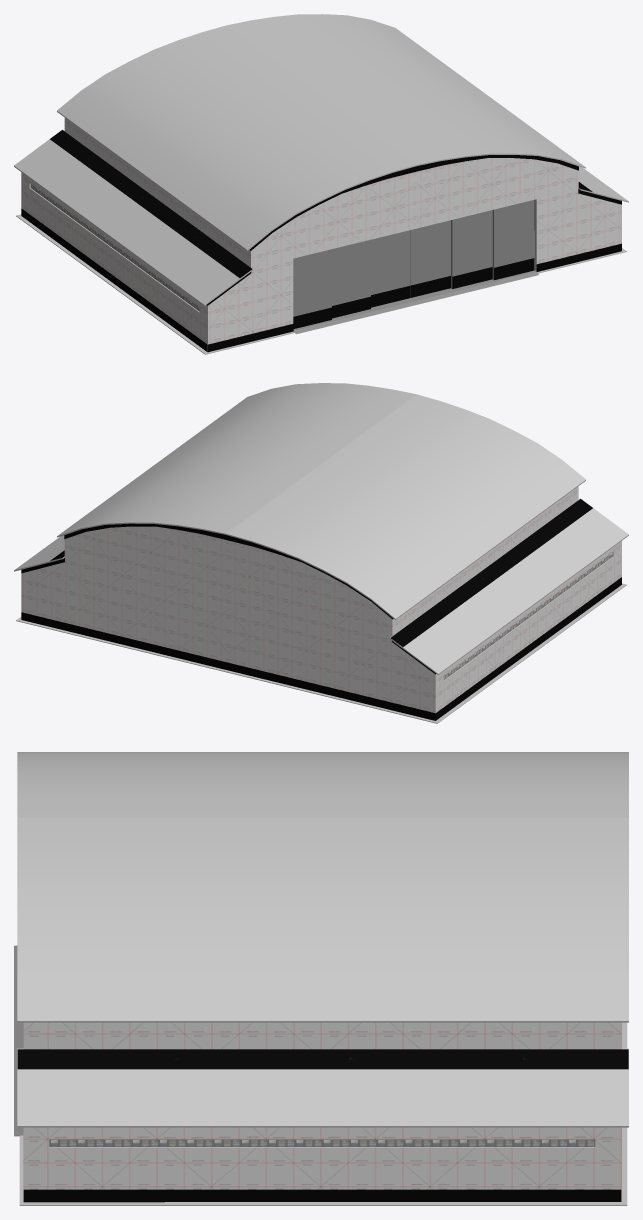
Rendered from hangar_03_a.FBX.
3 renders of one model, top to bottom at view 1: azimuth 30°, elevation 25°; view 2: azimuth 150°, elevation 25°; view 3: azimuth 270°, elevation 25°, orthographic. The views are drawn at different scales.
Parts seen in each view (by area): view 1: hangar_03_a, dr3, dr2, dr1, dl3, dl2, dl1; view 2: hangar_03_a; view 3: hangar_03_a.
Part boxes in pixels (bbox=[...]): hangar_03_a: bbox=[14, 14, 628, 354]; dr3: bbox=[492, 200, 534, 280]; dr2: bbox=[451, 210, 492, 288]; dr1: bbox=[410, 220, 450, 297]; dl3: bbox=[293, 249, 331, 328]; dl2: bbox=[332, 239, 370, 318]; dl1: bbox=[371, 230, 409, 307]; hangar_03_a: bbox=[14, 383, 628, 723]; hangar_03_a: bbox=[14, 752, 628, 1205].
Bounding box in the file's own units: 181 × 56.71 × 142.
